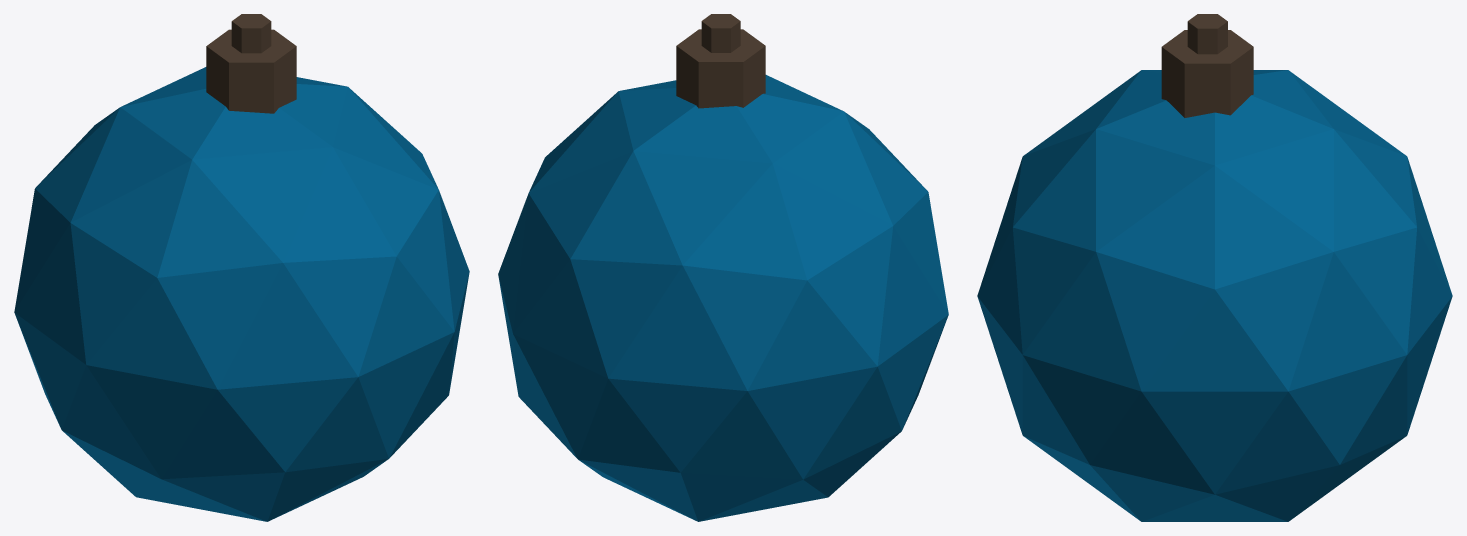
File: ornament3.gltf
3 renders of one model, left to right at view 1: azimuth 30°, elevation 25°; view 2: azimuth 150°, elevation 25°; view 3: azimuth 270°, elevation 25°, orthographic. The views are drawn at different scales.
Visible parts, largest first — view 1: ornament_Icosphere.020, ornament_2_Cylinder.019, ornament_1_Cylinder.020; view 2: ornament_Icosphere.020, ornament_2_Cylinder.019, ornament_1_Cylinder.020; view 3: ornament_Icosphere.020, ornament_2_Cylinder.019, ornament_1_Cylinder.020.
Part boxes in pixels (box(x1,y1,x2,y2)): ornament_Icosphere.020: box(14, 67, 469, 521); ornament_2_Cylinder.019: box(206, 29, 296, 113); ornament_1_Cylinder.020: box(231, 14, 271, 53); ornament_Icosphere.020: box(498, 75, 948, 521); ornament_2_Cylinder.019: box(676, 29, 765, 108); ornament_1_Cylinder.020: box(701, 14, 740, 52); ornament_Icosphere.020: box(977, 70, 1452, 521); ornament_2_Cylinder.019: box(1161, 30, 1253, 117); ornament_1_Cylinder.020: box(1187, 14, 1227, 54).
Size of the model in its own units: 1.29 by 1.55 by 1.35.
